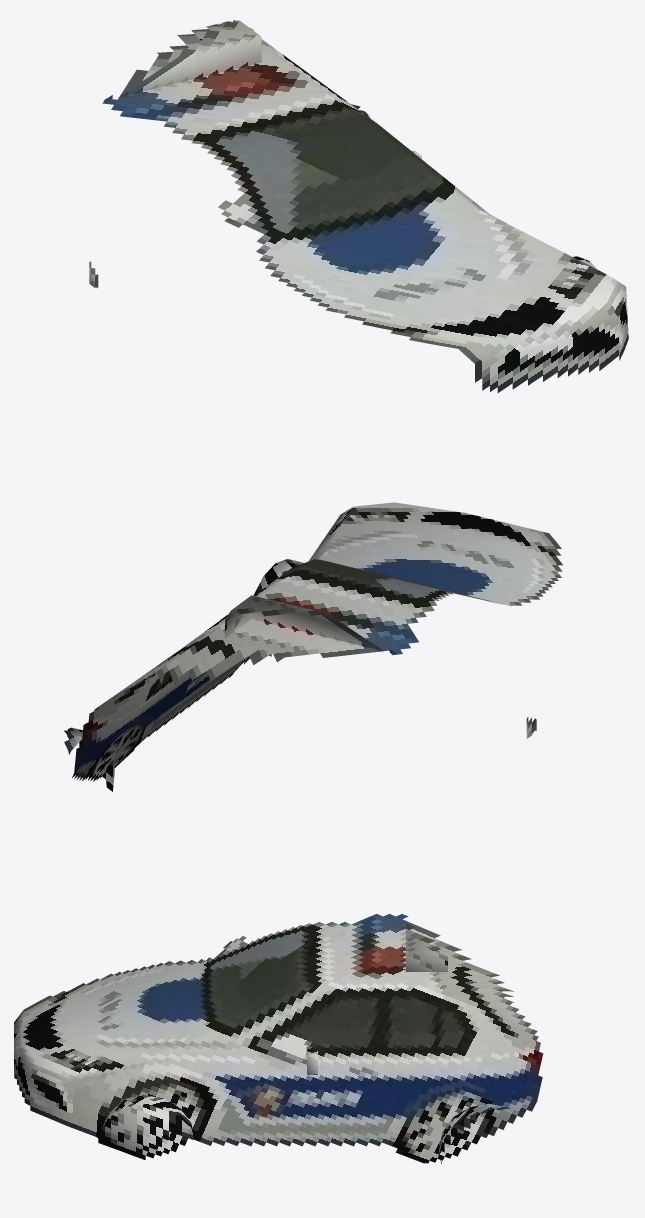
File: WavePoliceCar.glb
3 views of the same model, one above another, from view 1: azimuth 30°, elevation 25°; view 2: azimuth 150°, elevation 25°; view 3: azimuth 270°, elevation 25° (orthographic). The views are drawn at different scales.
Visible parts, largest first — view 1: 25DBG_Sector01_Zone01_Prop_Car_5; view 2: 25DBG_Sector01_Zone01_Prop_Car_5; view 3: 25DBG_Sector01_Zone01_Prop_Car_5.
Part boxes in pixels (x1,y1,x2,y2): 25DBG_Sector01_Zone01_Prop_Car_5: [89, 20, 628, 392]; 25DBG_Sector01_Zone01_Prop_Car_5: [64, 502, 562, 791]; 25DBG_Sector01_Zone01_Prop_Car_5: [14, 914, 543, 1164].
Size of the model in its own units: 2.07 by 1.22 by 3.47.
1 material, 1 textured.
